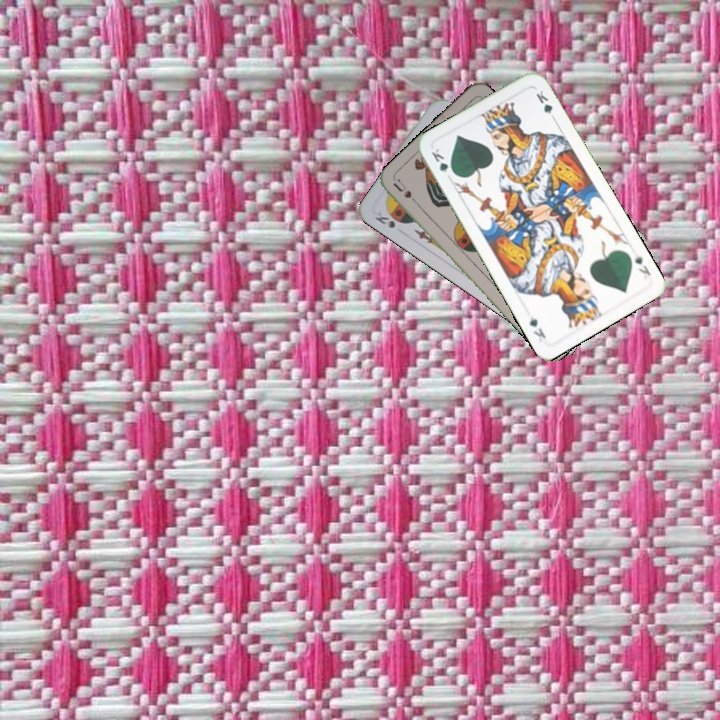GK: (427, 144, 458, 178), (630, 249, 653, 278)
SK: (371, 207, 398, 231)
SU: (389, 175, 423, 210)
